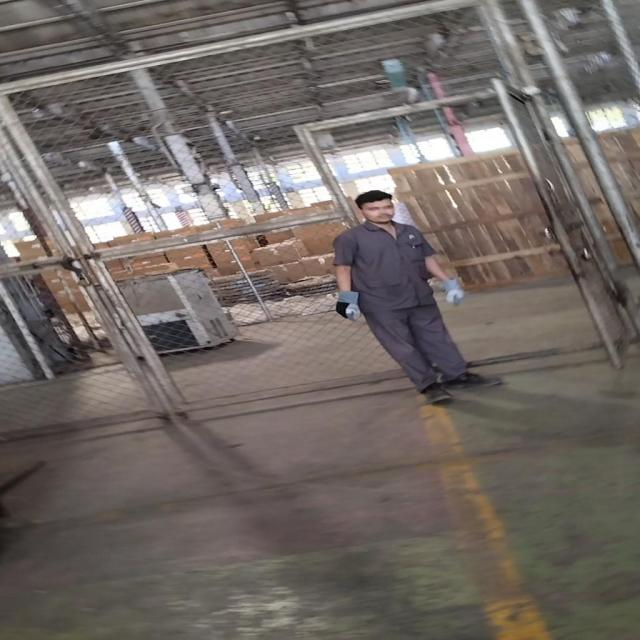Gloves-Detection: (332, 288, 364, 322), (438, 277, 467, 308)
